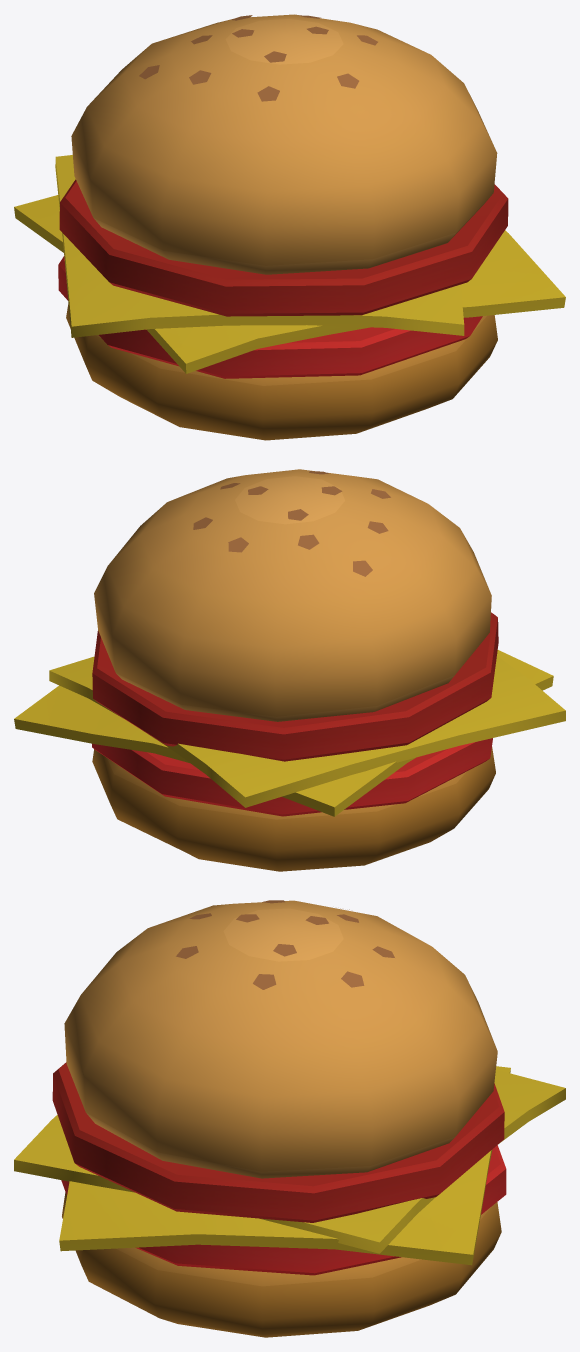
Rendered from ChessBurger_Ready.glb.
3 views of the same model, one above another, from view 1: azimuth 30°, elevation 25°; view 2: azimuth 150°, elevation 25°; view 3: azimuth 270°, elevation 25° (orthographic). The views are drawn at different scales.
Visible parts, largest first — view 1: ChessBurger_Ready; view 2: ChessBurger_Ready; view 3: ChessBurger_Ready.
Part boxes in pixels (box(x1,y1,x2,y2)): ChessBurger_Ready: box(14, 14, 565, 440); ChessBurger_Ready: box(14, 469, 565, 871); ChessBurger_Ready: box(14, 900, 565, 1337).
Size of the model in its own units: 0.267 by 0.1804 by 0.2696.
Materials: 1 (1 with a texture image).
